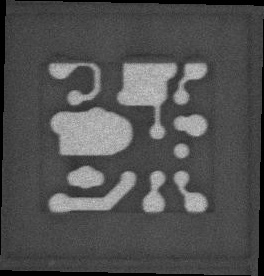NO_DIE: (40, 61, 214, 215)
